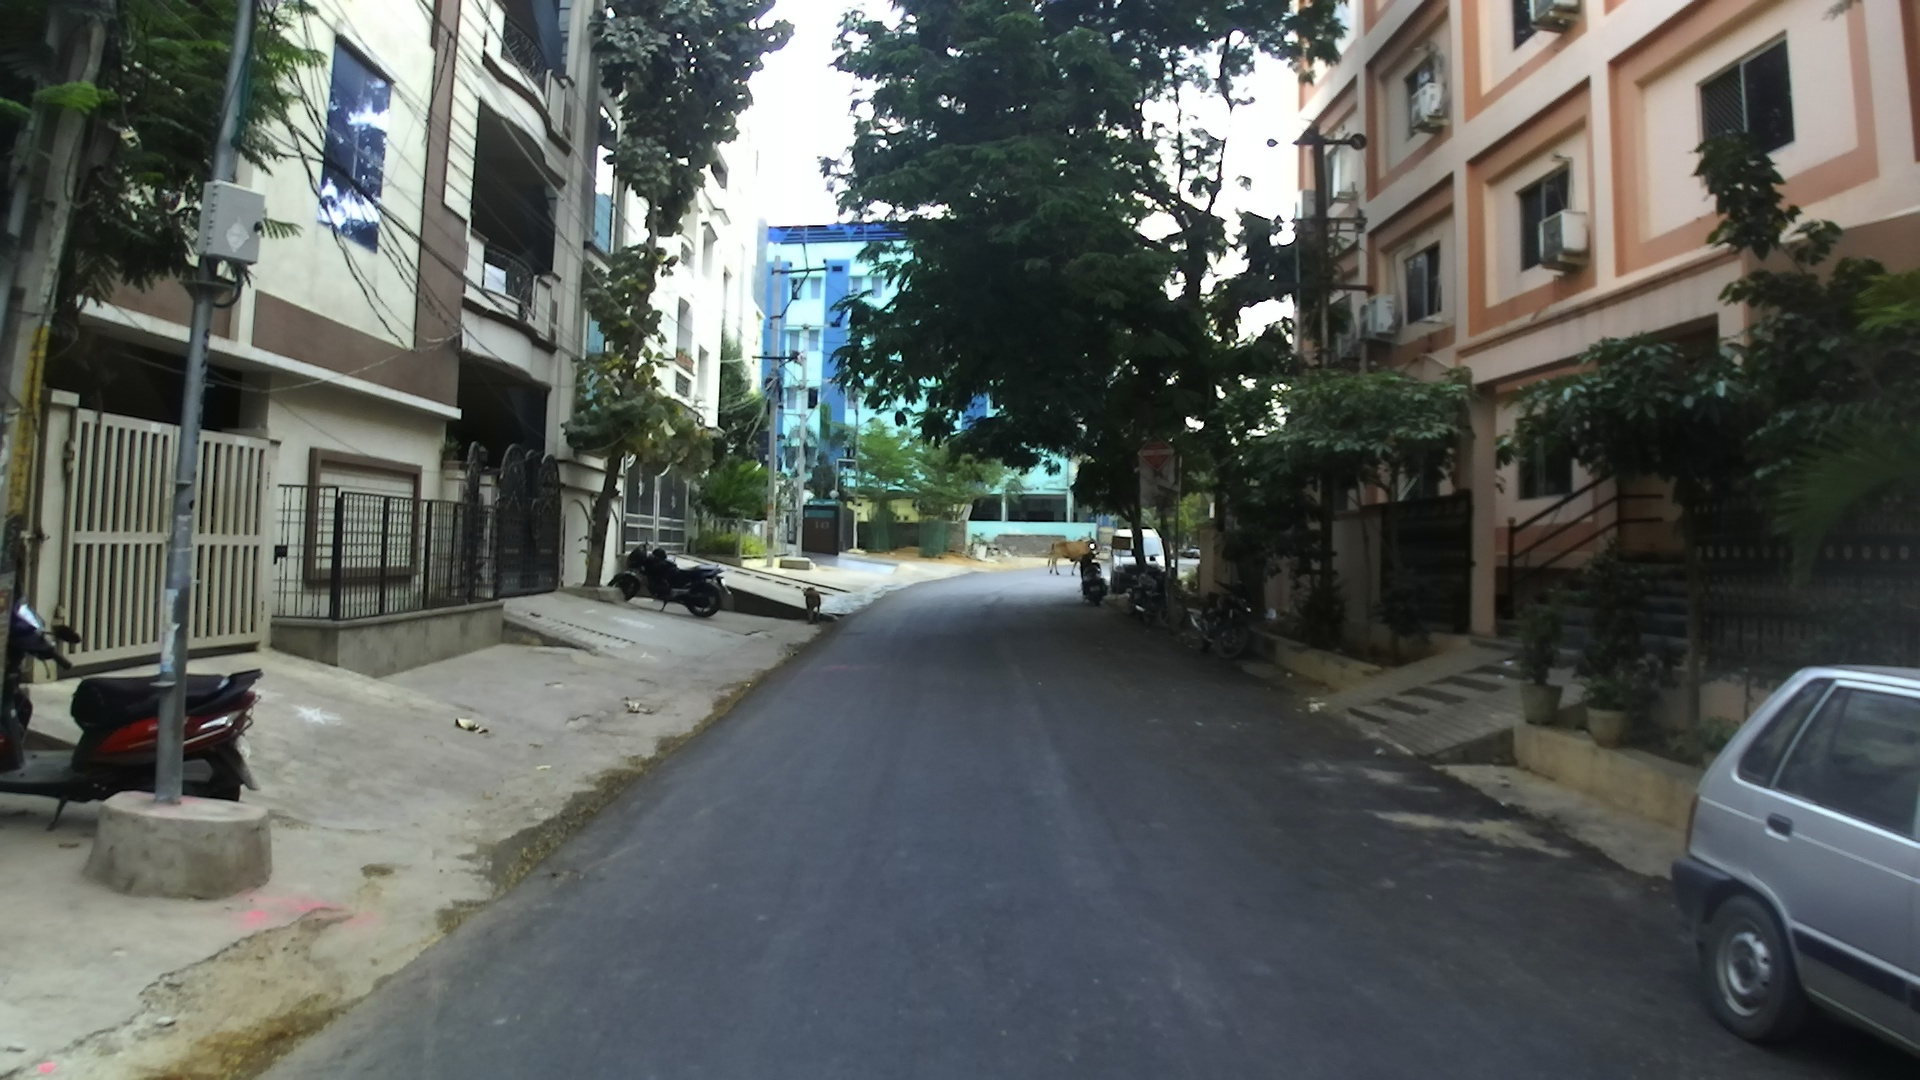vehicle: (1667, 665, 1917, 1055), (611, 546, 728, 618)
